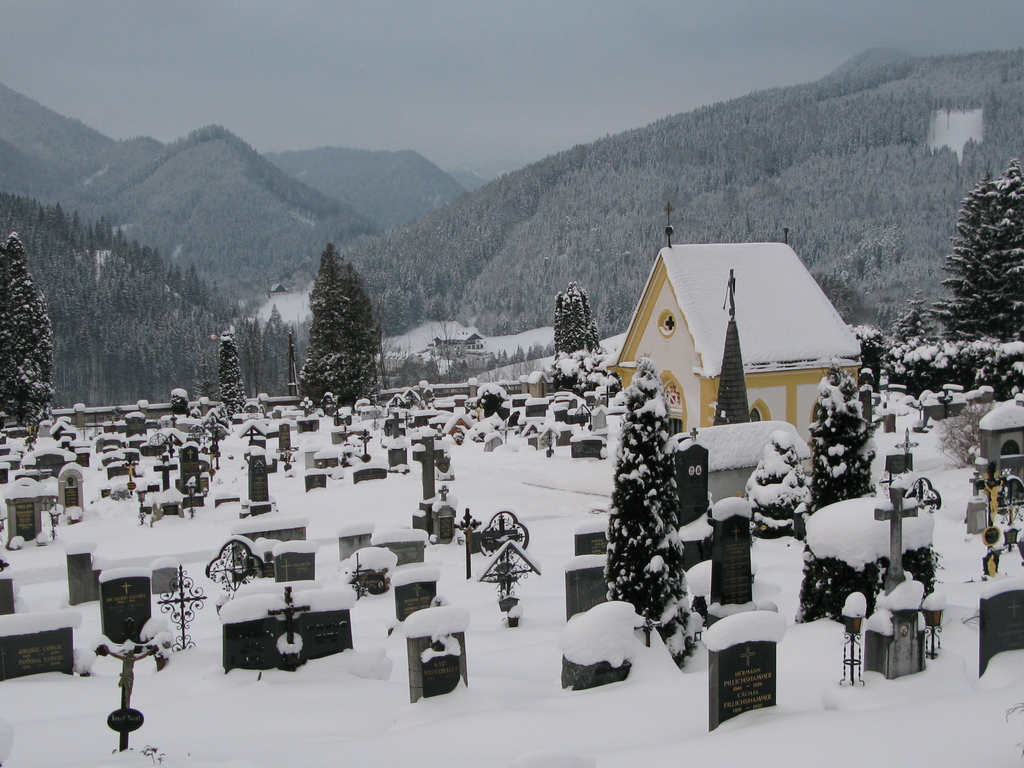Tree: (7, 181, 256, 407), (595, 348, 704, 669), (798, 355, 888, 633), (927, 149, 1024, 371), (294, 229, 384, 407), (0, 231, 61, 439), (889, 287, 944, 392), (250, 298, 298, 405), (544, 276, 602, 364), (205, 320, 253, 421)
